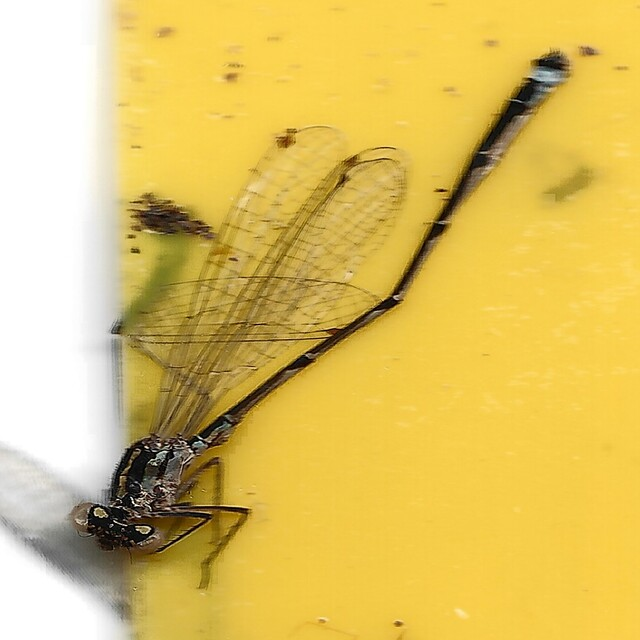Odonata: (68, 50, 572, 590)
